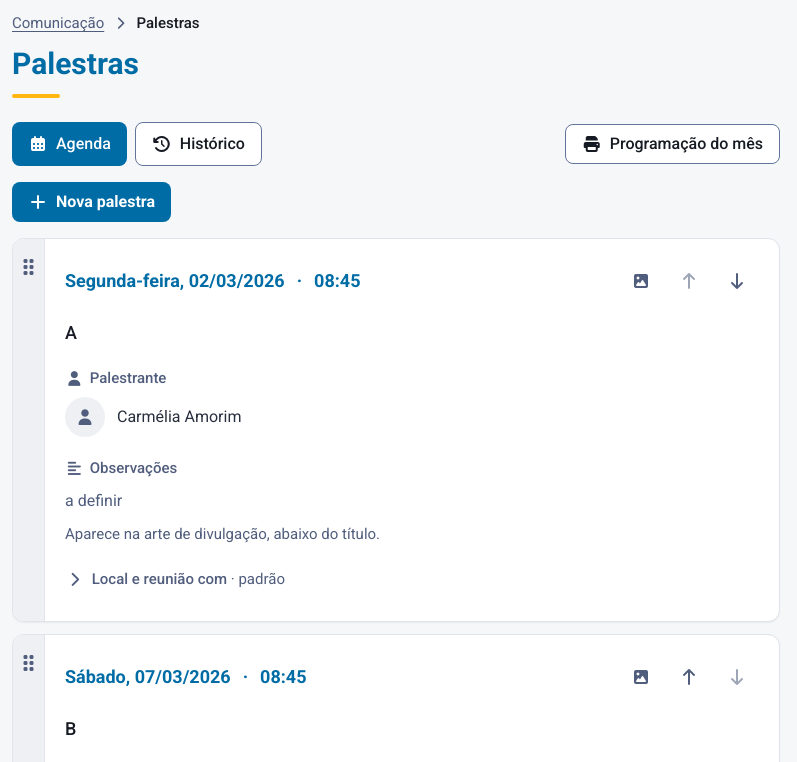
Test: talk board page › opens the new talk card with the default location and the weekday time
The width and height of the screenshot is (797, 762).
Click the button "Nova palestra" at {"x": 92, "y": 202}, box [12,182,171,222]
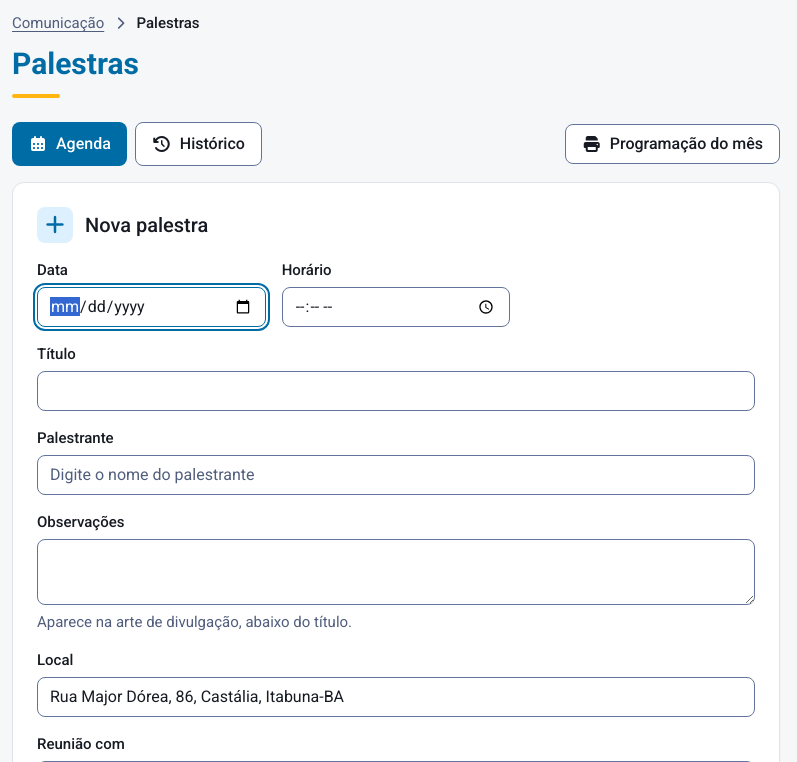
Type "2026-03-09" into the date field with id "nova-palestra-data" at {"x": 151, "y": 307}, box [37,287,266,327]
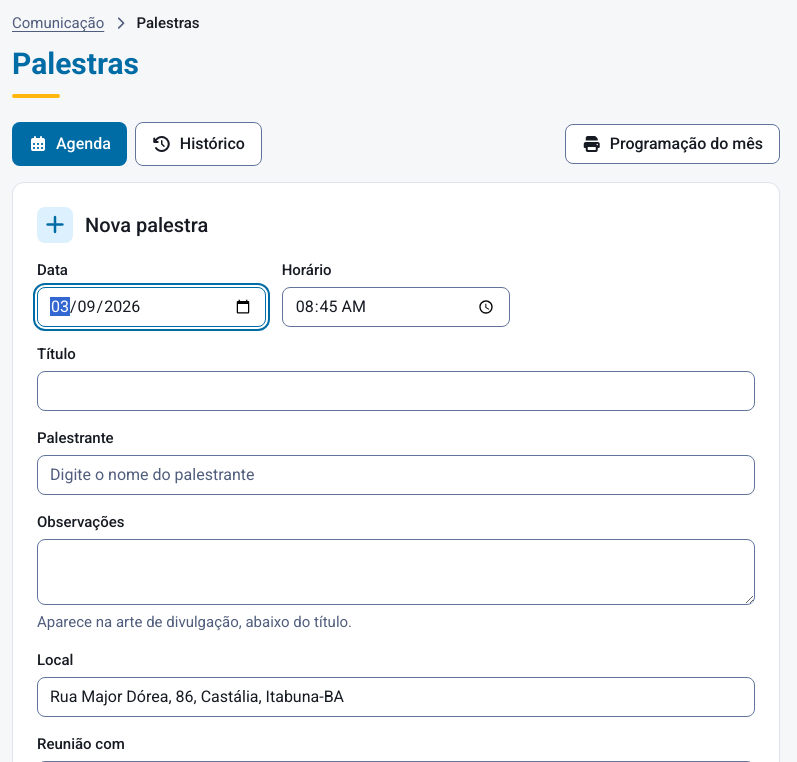
Check: the field with id "nova-palestra-local" holds "Rua Major Dórea, 86, Castália, Itabuna-BA", box [37,677,755,717]
Check: the time field with id "nova-palestra-horario" holds "08:45", box [282,287,510,327]
